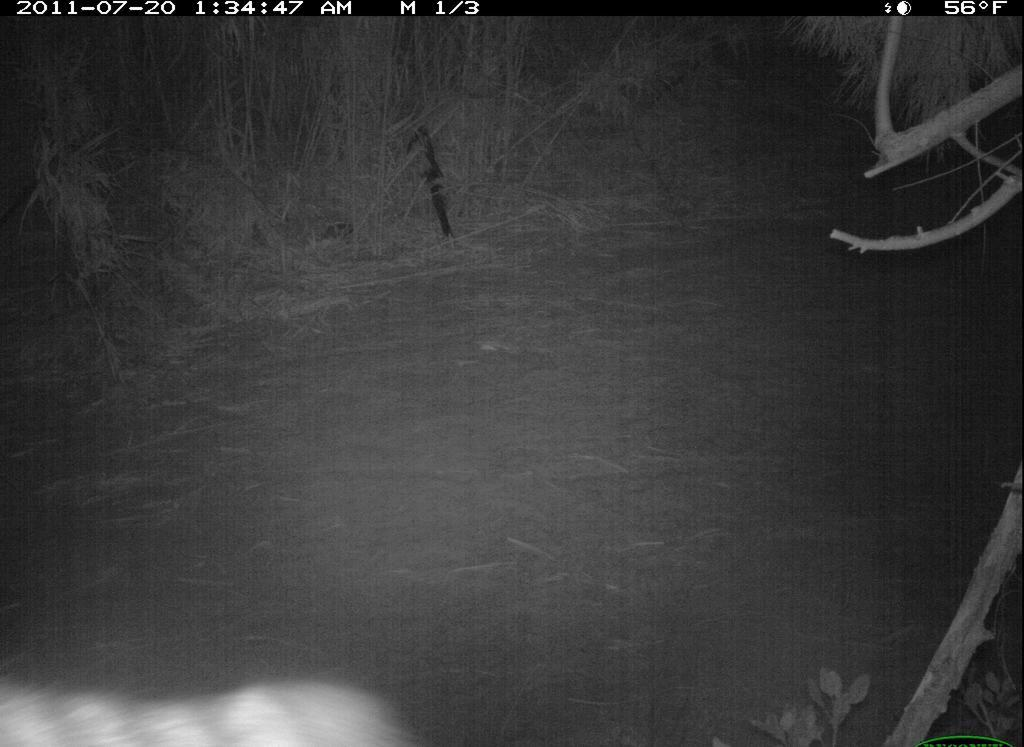raccoon: (2, 671, 425, 747)
